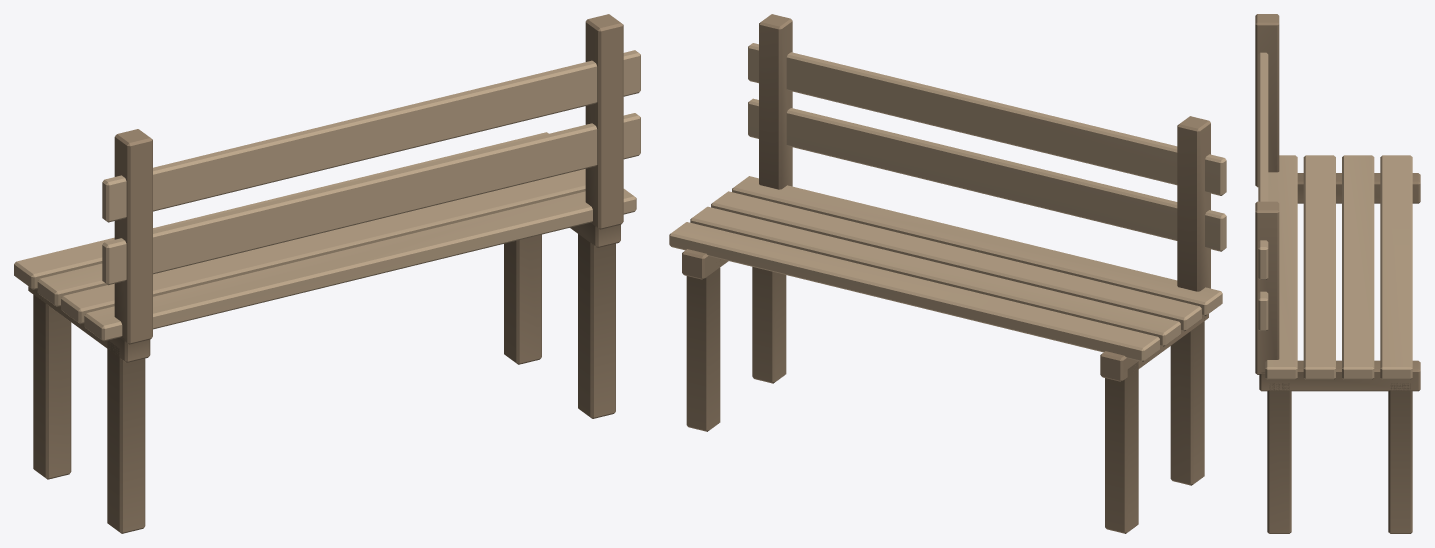
File: bench.glb
3 renders of one model, left to right at view 1: azimuth 30°, elevation 25°; view 2: azimuth 150°, elevation 25°; view 3: azimuth 270°, elevation 25°, orthographic. The views are drawn at different scales.
Bounding box in the file's own units: 1.25 × 0.885 × 0.41.
